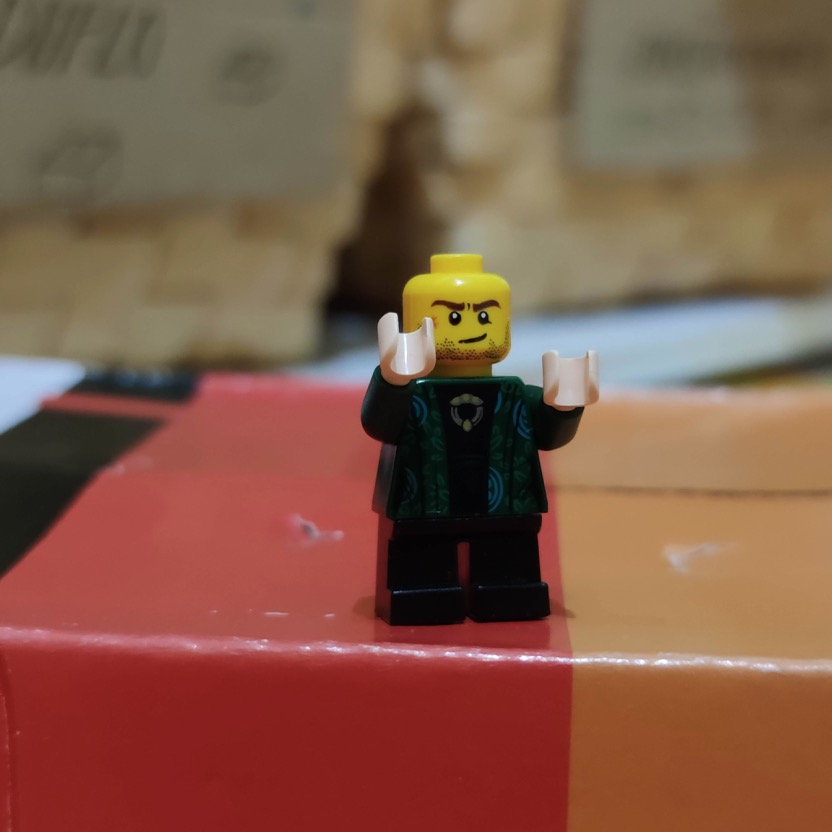lego: (360, 253, 603, 626)
